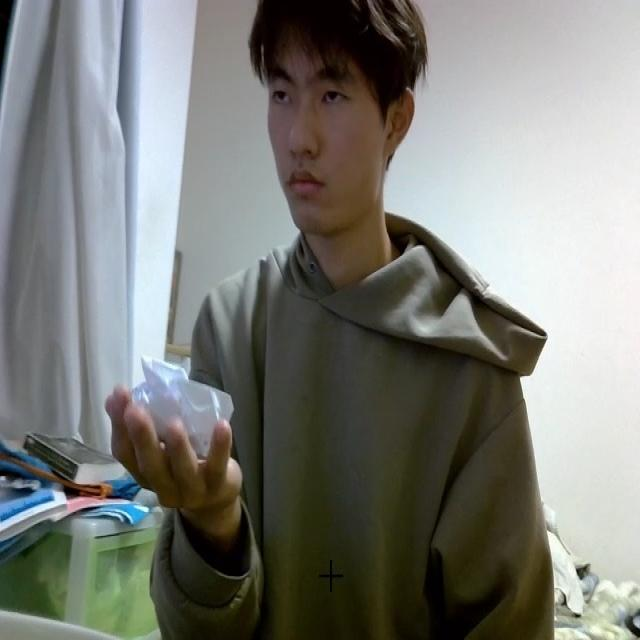paper: (131, 355, 234, 460)
